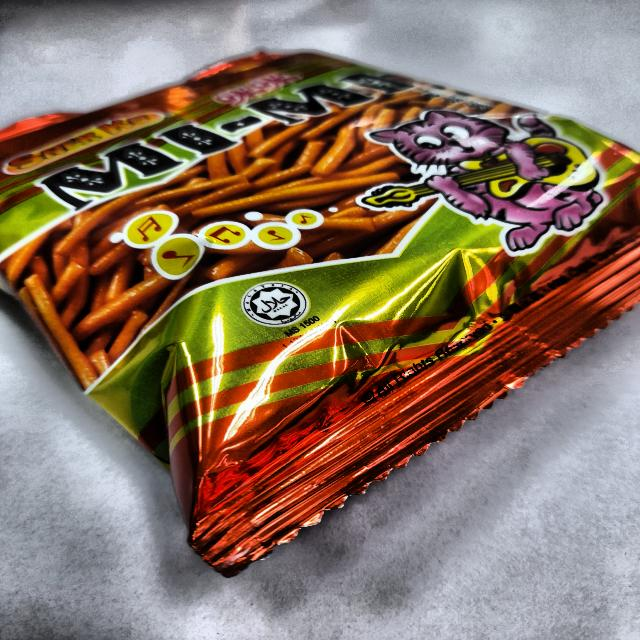Plastic: (3, 45, 640, 544)
